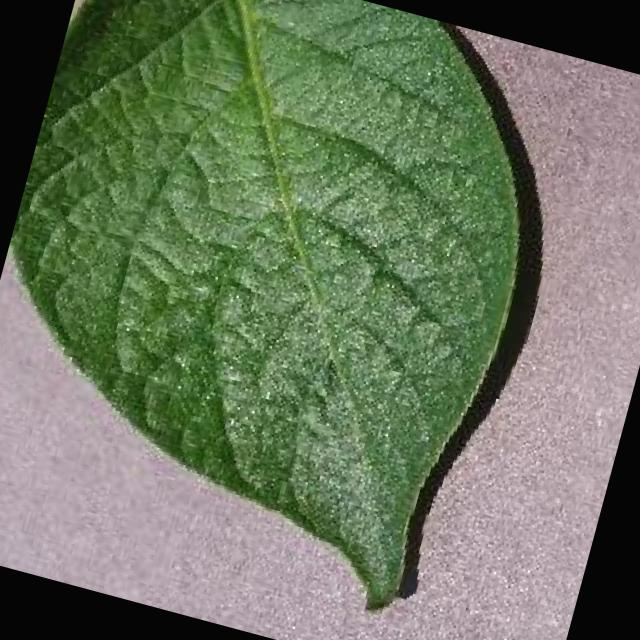healthy: (8, 0, 517, 609)
